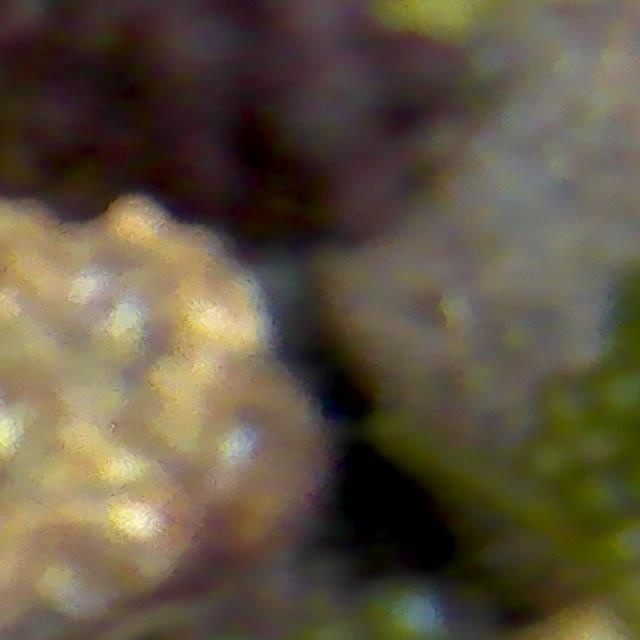SeaGrape: (371, 581, 448, 640), (533, 371, 600, 428), (573, 472, 630, 535), (599, 355, 640, 422), (526, 435, 573, 488)
